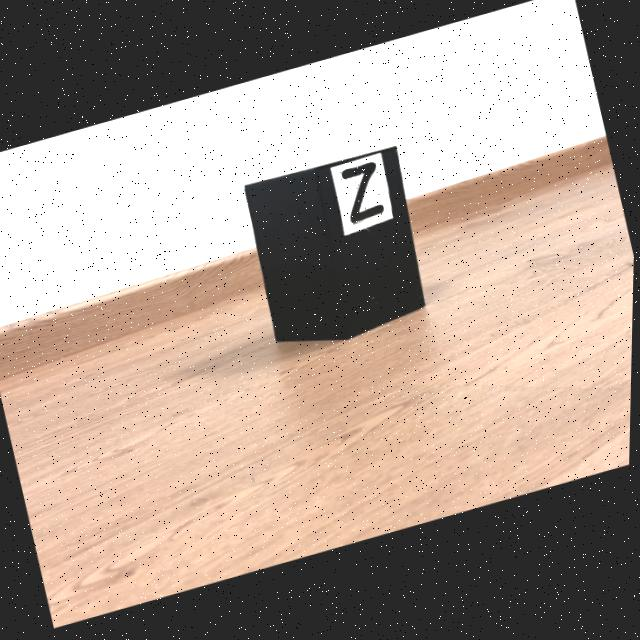Z: (342, 165, 385, 226)
